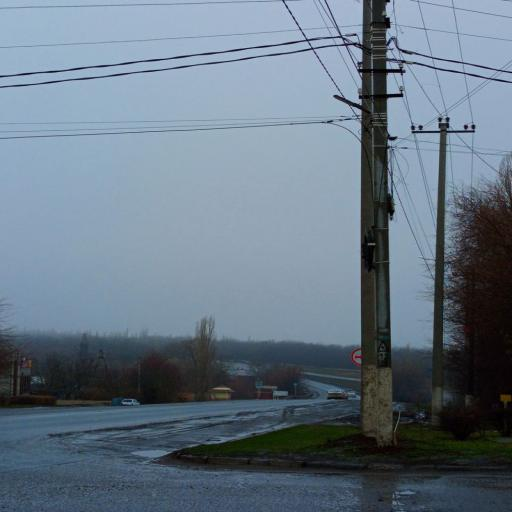phone: (412, 117, 475, 425), (371, 0, 393, 446), (432, 122, 448, 425), (361, 259, 377, 437)
ramp: (0, 399, 511, 511)
